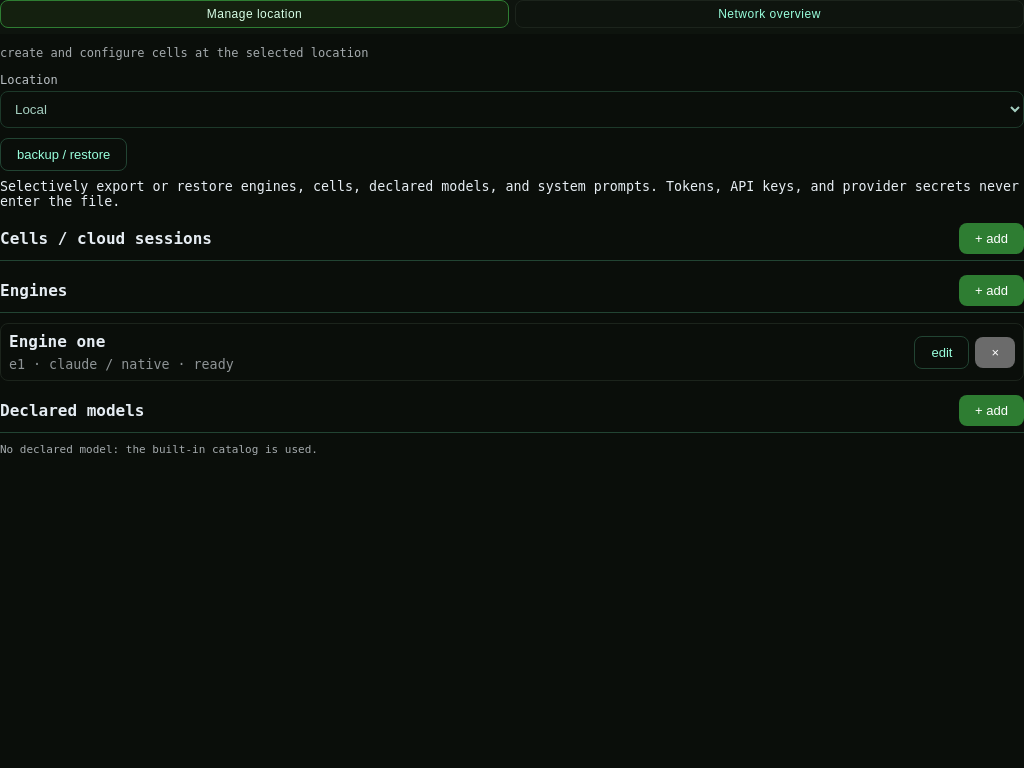
Test: make it mine — il percorso reale › a single field at 512 shows the error, keeps Confirm disabled and writes nothing
The width and height of the screenshot is (1024, 768).
Step 1. Click the button "edit" → coordinates (942, 352), box [914,336,969,369]
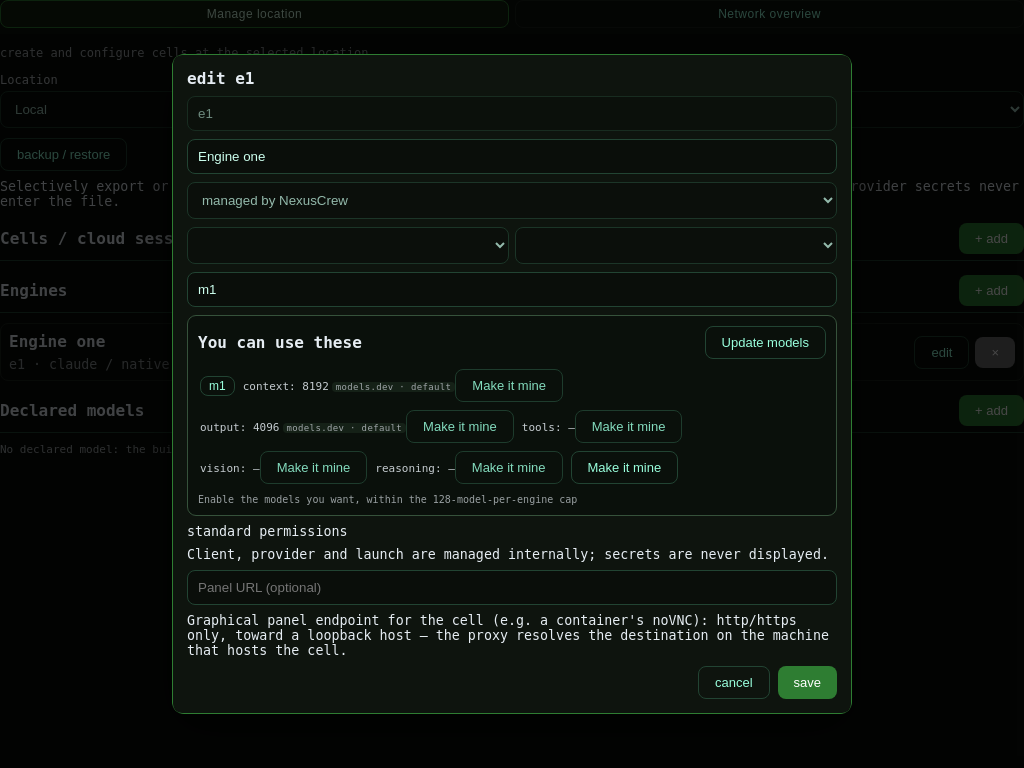
Now the element "models" is shown, box [187,315,837,516]
Step 2. Click the button with aria-label "Make it mine: m1" → coordinates (624, 468), box [570,451,678,484]
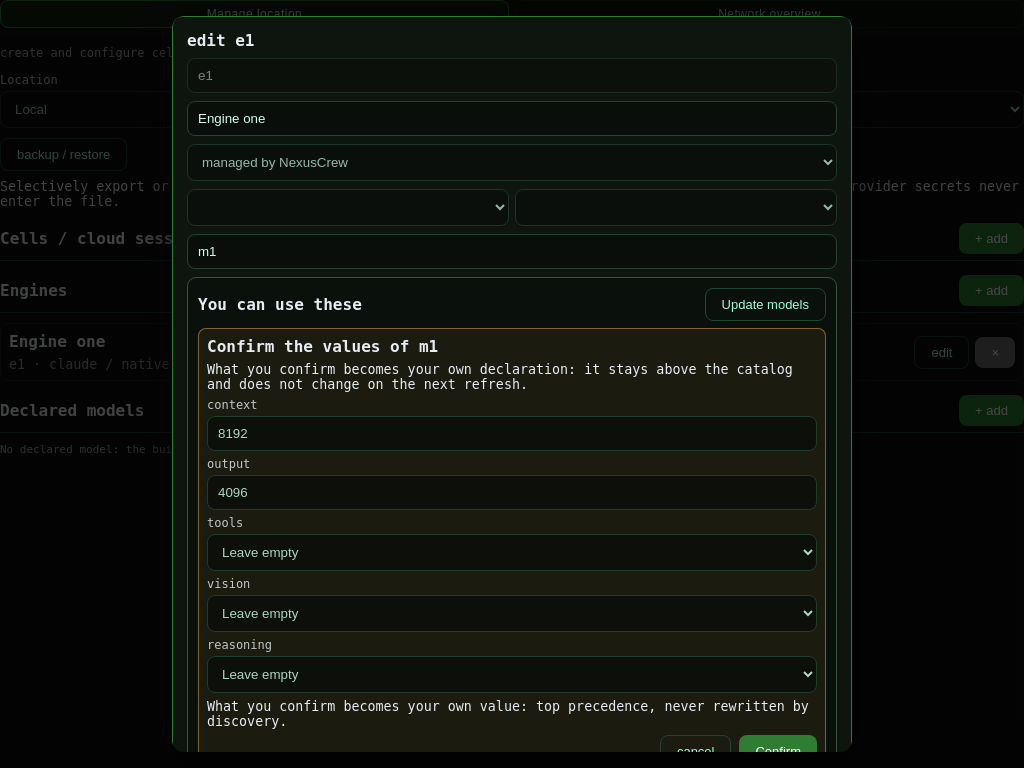
Step 3. Replace the text in the field labelled "context" with "512" → coordinates (512, 434), box [207,416,817,451]
(page scrolled)
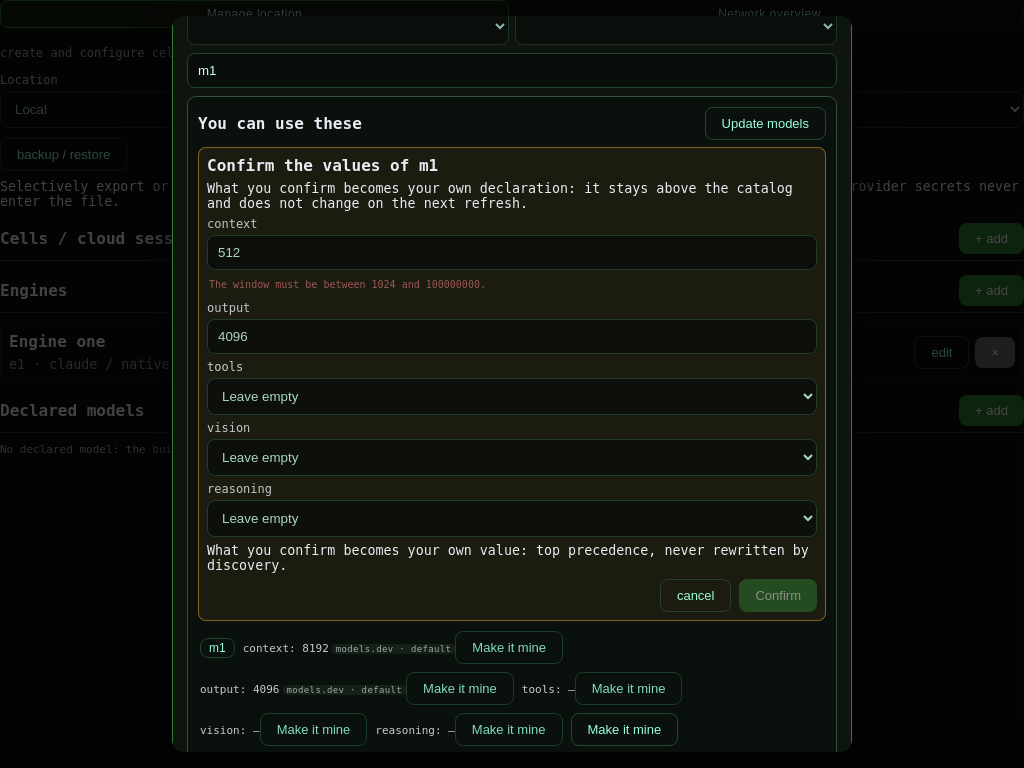
Now the dialog "Confirm the values of m1" is shown, box [198,147,826,621]
Now the text "The window must be between 1024 and 100000000." is shown, box [209,279,486,290]
Now the button "Confirm" is disabled, box [740,579,817,612]
